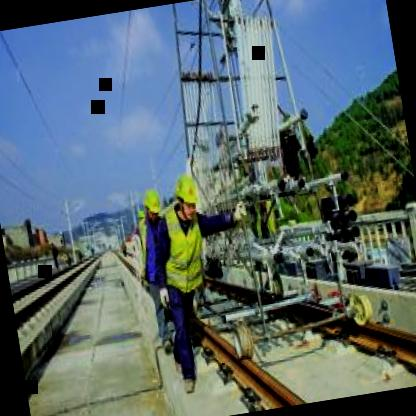helmet: (167, 165, 202, 227), (140, 185, 163, 222)
